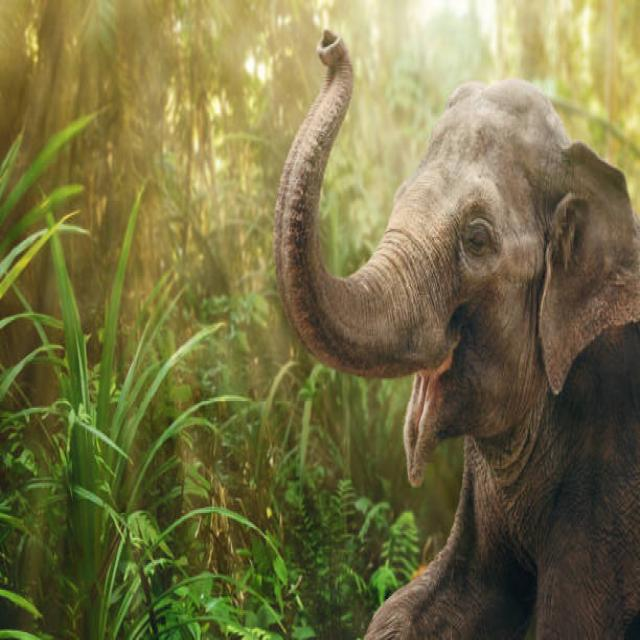Elephant: (272, 22, 640, 640)
